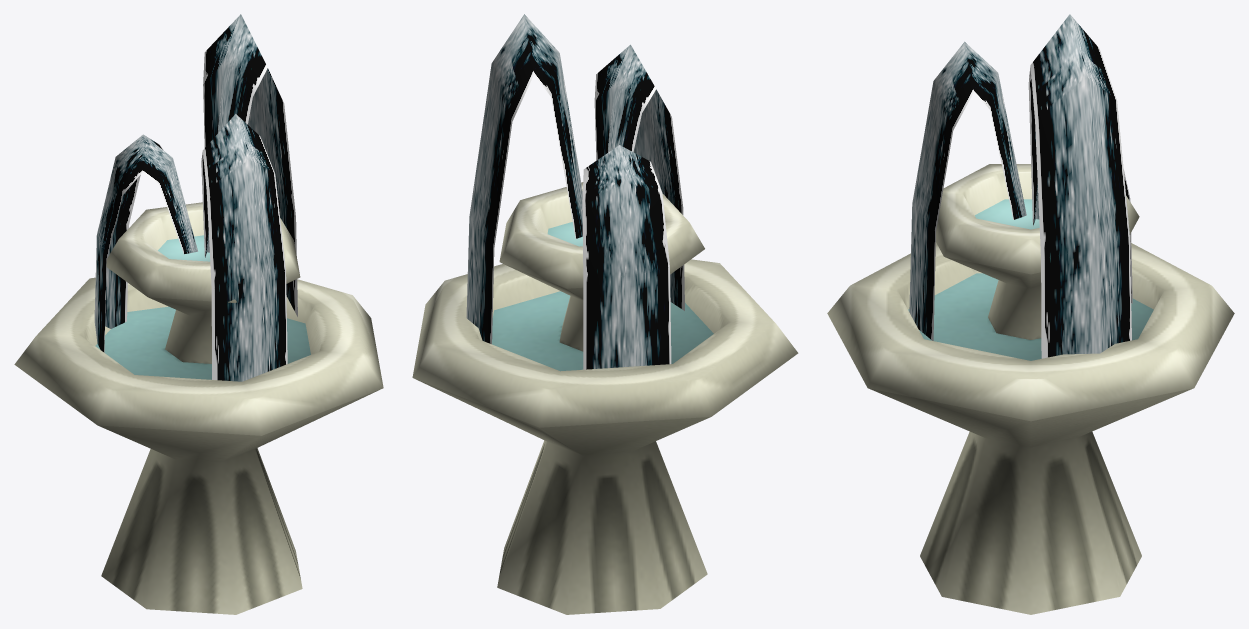
The model's file is fountain_noAni.DAE.
3 renders of one model, left to right at view 1: azimuth 30°, elevation 25°; view 2: azimuth 150°, elevation 25°; view 3: azimuth 270°, elevation 25°, orthographic. The views are drawn at different scales.
Parts seen in each view (by area): view 1: fountain, fountain_water4_PIVOT, fountain_water5_PIVOT, fountain_water6_PIVOT; view 2: fountain, fountain_water6_PIVOT, fountain_water5_PIVOT, fountain_water4_PIVOT; view 3: fountain, fountain_water5_PIVOT, fountain_water4_PIVOT.
Part boxes in pixels (left/top/right/bottom): fountain: left=14, top=202, right=383, bottom=614; fountain_water4_PIVOT: left=201, top=114, right=287, bottom=381; fountain_water5_PIVOT: left=203, top=14, right=297, bottom=316; fountain_water6_PIVOT: left=94, top=134, right=197, bottom=352; fountain: left=412, top=182, right=798, bottom=614; fountain_water6_PIVOT: left=582, top=145, right=671, bottom=369; fountain_water5_PIVOT: left=466, top=14, right=582, bottom=344; fountain_water4_PIVOT: left=594, top=44, right=684, bottom=310; fountain: left=827, top=164, right=1234, bottom=614; fountain_water5_PIVOT: left=1028, top=14, right=1131, bottom=358; fountain_water4_PIVOT: left=909, top=41, right=1026, bottom=340.
Bounding box in the file's own units: 127 × 130 × 205.
